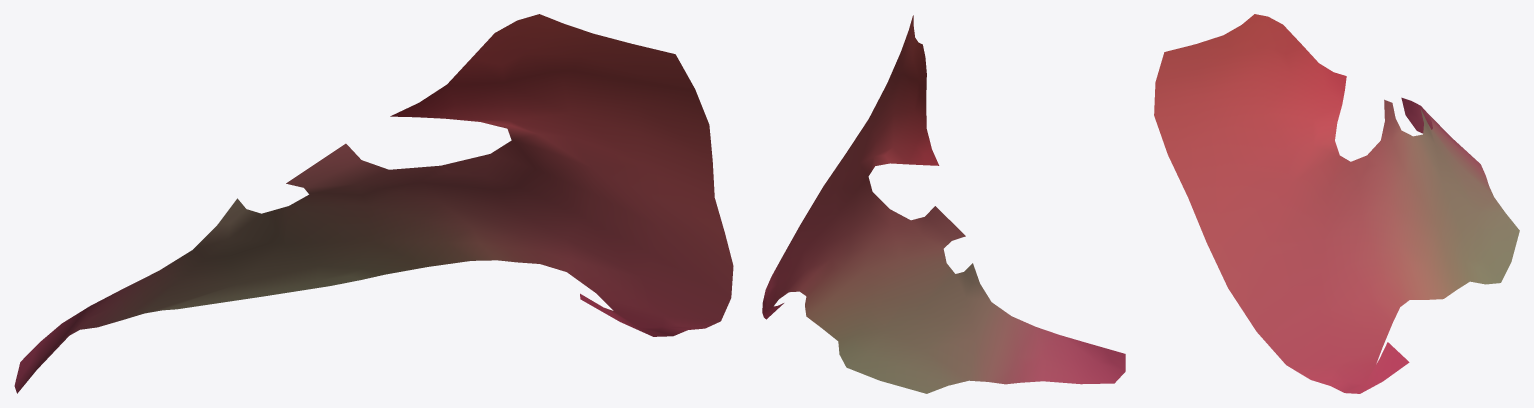
The model's file is space-nebulae-nebula_v47.fbx.
The picture shows the model from 3 angles, left to right: view 1: azimuth 30°, elevation 25°; view 2: azimuth 150°, elevation 25°; view 3: azimuth 270°, elevation 25°; orthographic projection. The views are drawn at different scales.
Parts seen in each view (by area): view 1: Nebula_v47; view 2: Nebula_v47; view 3: Nebula_v47.
Boxes of the visible parts, <box> form: Nebula_v47: <box>14,14,733,393</box>; Nebula_v47: <box>762,15,1125,393</box>; Nebula_v47: <box>1154,14,1519,393</box>.
Size of the model in its own units: 0.5 by 0.3198 by 0.3389.
